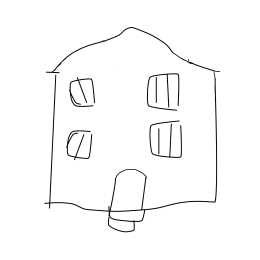closed_window: (143, 117, 191, 164), (139, 70, 185, 112), (62, 73, 105, 109), (62, 125, 102, 162)
door: (106, 166, 154, 210)
single_line_roof: (28, 22, 232, 74)
wall: (38, 71, 224, 214)
